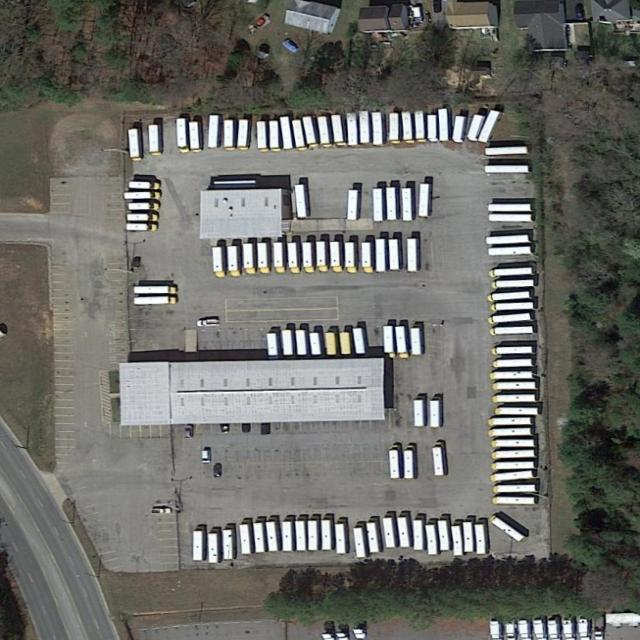large-vehicle: (488, 514, 526, 543), (477, 109, 502, 143), (366, 518, 384, 554), (382, 514, 399, 548), (302, 116, 320, 148), (331, 114, 348, 147), (474, 520, 490, 555), (437, 516, 453, 551), (397, 513, 413, 548), (353, 523, 369, 558), (334, 519, 350, 554), (266, 517, 282, 552), (239, 520, 255, 555), (292, 120, 309, 152), (395, 326, 411, 359), (488, 313, 532, 325), (490, 470, 534, 482), (253, 519, 268, 554), (222, 525, 237, 560), (192, 526, 207, 561), (317, 116, 333, 148), (403, 446, 418, 480), (433, 443, 448, 477), (321, 516, 335, 551), (208, 529, 222, 564), (468, 114, 486, 141), (490, 325, 534, 336), (414, 514, 427, 551), (128, 129, 143, 161), (429, 397, 444, 429), (390, 446, 404, 480), (487, 291, 530, 302), (451, 521, 464, 557), (425, 519, 438, 555), (189, 122, 204, 153), (344, 242, 359, 273), (242, 244, 257, 275), (227, 247, 242, 278), (402, 111, 416, 144), (176, 118, 189, 153), (488, 268, 533, 278), (287, 243, 301, 275), (280, 116, 293, 150), (488, 417, 532, 427), (491, 450, 535, 460), (149, 125, 163, 156), (223, 120, 237, 151), (330, 241, 344, 272), (302, 242, 316, 273), (463, 517, 475, 553), (487, 234, 530, 244), (491, 279, 534, 289), (491, 302, 534, 312), (493, 394, 536, 404), (488, 427, 531, 437), (308, 517, 320, 552), (282, 517, 294, 552), (257, 244, 271, 274), (494, 483, 536, 493), (414, 111, 427, 143), (492, 345, 533, 355), (346, 112, 358, 146), (295, 517, 307, 551), (491, 461, 536, 470), (389, 113, 402, 144), (362, 242, 375, 273), (133, 286, 177, 295), (371, 112, 383, 145), (485, 147, 529, 156), (295, 185, 307, 218), (418, 184, 430, 217), (488, 246, 532, 255), (495, 407, 539, 416), (208, 115, 220, 148), (316, 241, 329, 271), (273, 243, 286, 273), (213, 248, 226, 278), (134, 296, 177, 305), (490, 371, 533, 380), (493, 382, 536, 391), (493, 497, 535, 506), (386, 187, 397, 221), (375, 238, 386, 272), (348, 190, 360, 221), (373, 188, 384, 221), (402, 188, 413, 221), (257, 121, 269, 151), (485, 165, 530, 173), (415, 396, 427, 426), (493, 359, 533, 368), (489, 214, 533, 222), (453, 116, 466, 143), (492, 439, 535, 447), (389, 239, 400, 270), (408, 238, 418, 272), (353, 328, 366, 354), (439, 108, 449, 141), (281, 330, 294, 355), (488, 204, 533, 211), (383, 325, 394, 353), (128, 181, 162, 190), (296, 330, 308, 355), (239, 120, 249, 150), (339, 332, 352, 355), (128, 202, 161, 211), (270, 120, 279, 153), (360, 110, 369, 143), (124, 192, 161, 200), (127, 214, 159, 222), (126, 224, 158, 232), (310, 332, 321, 355), (325, 332, 336, 355), (428, 115, 437, 142), (412, 328, 421, 355), (268, 333, 278, 355)
small-vehicle: (197, 319, 222, 328), (261, 415, 271, 435), (241, 416, 251, 434), (220, 416, 230, 434), (576, 5, 585, 21), (202, 450, 213, 463), (215, 463, 222, 480), (186, 426, 194, 440)
